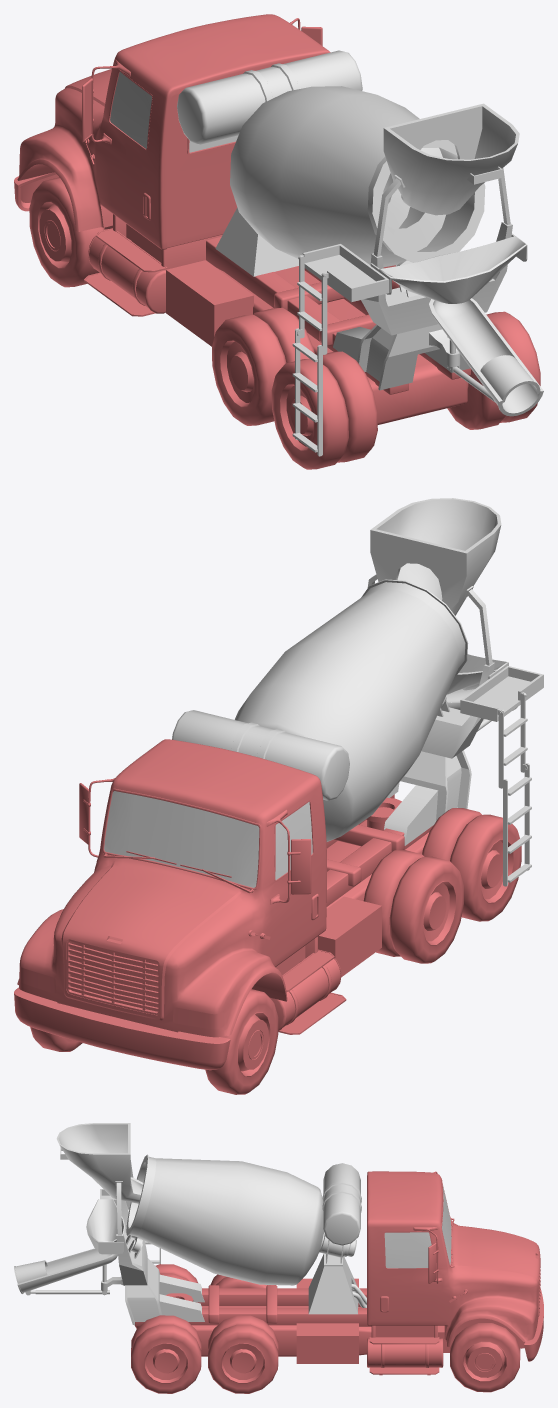
File: ConcreteMixerTruck.fbx
3 renders of one model, top to bottom at view 1: azimuth 30°, elevation 25°; view 2: azimuth 150°, elevation 25°; view 3: azimuth 270°, elevation 25°, orthographic. The views are drawn at different scales.
Parts seen in each view (by area): view 1: Body, Circle, Cube_001, Wheel, Circle_002, Wheel_2, Cylinder_001, Wheel_4, Cube_004; view 2: Body, Circle, Cube_001, Circle_002, Wheel_2, Wheel, Wheel_4, Cube_004; view 3: Body, Circle, Cube_001, Wheel_2, Wheel, Circle_002, Wheel_3, Cylinder_001.
Boxes of the visible parts, bbox=[...] form: Body: bbox=[14, 14, 470, 424]; Circle: bbox=[230, 86, 485, 267]; Cube_001: bbox=[177, 50, 527, 390]; Wheel: bbox=[271, 311, 540, 469]; Circle_002: bbox=[383, 103, 519, 215]; Wheel_2: bbox=[212, 280, 399, 425]; Cylinder_001: bbox=[429, 298, 543, 416]; Wheel_4: bbox=[29, 177, 104, 287]; Cube_004: bbox=[292, 256, 327, 456]; Body: bbox=[14, 739, 433, 1070]; Circle: bbox=[234, 579, 468, 841]; Cube_001: bbox=[172, 574, 543, 845]; Circle_002: bbox=[370, 498, 501, 615]; Wheel_2: bbox=[363, 850, 463, 963]; Wheel: bbox=[422, 808, 521, 921]; Wheel_4: bbox=[205, 989, 278, 1094]; Cube_004: bbox=[498, 693, 531, 886]; Body: bbox=[134, 1171, 543, 1375]; Circle: bbox=[126, 1154, 356, 1285]; Cube_001: bbox=[86, 1163, 366, 1324]; Wheel_2: bbox=[208, 1274, 278, 1393]; Wheel: bbox=[131, 1264, 201, 1393]; Circle_002: bbox=[56, 1123, 143, 1203]; Wheel_3: bbox=[450, 1323, 520, 1392]; Cylinder_001: bbox=[14, 1248, 117, 1295].
Bounding box in the file's own units: 284 × 389 × 841.
